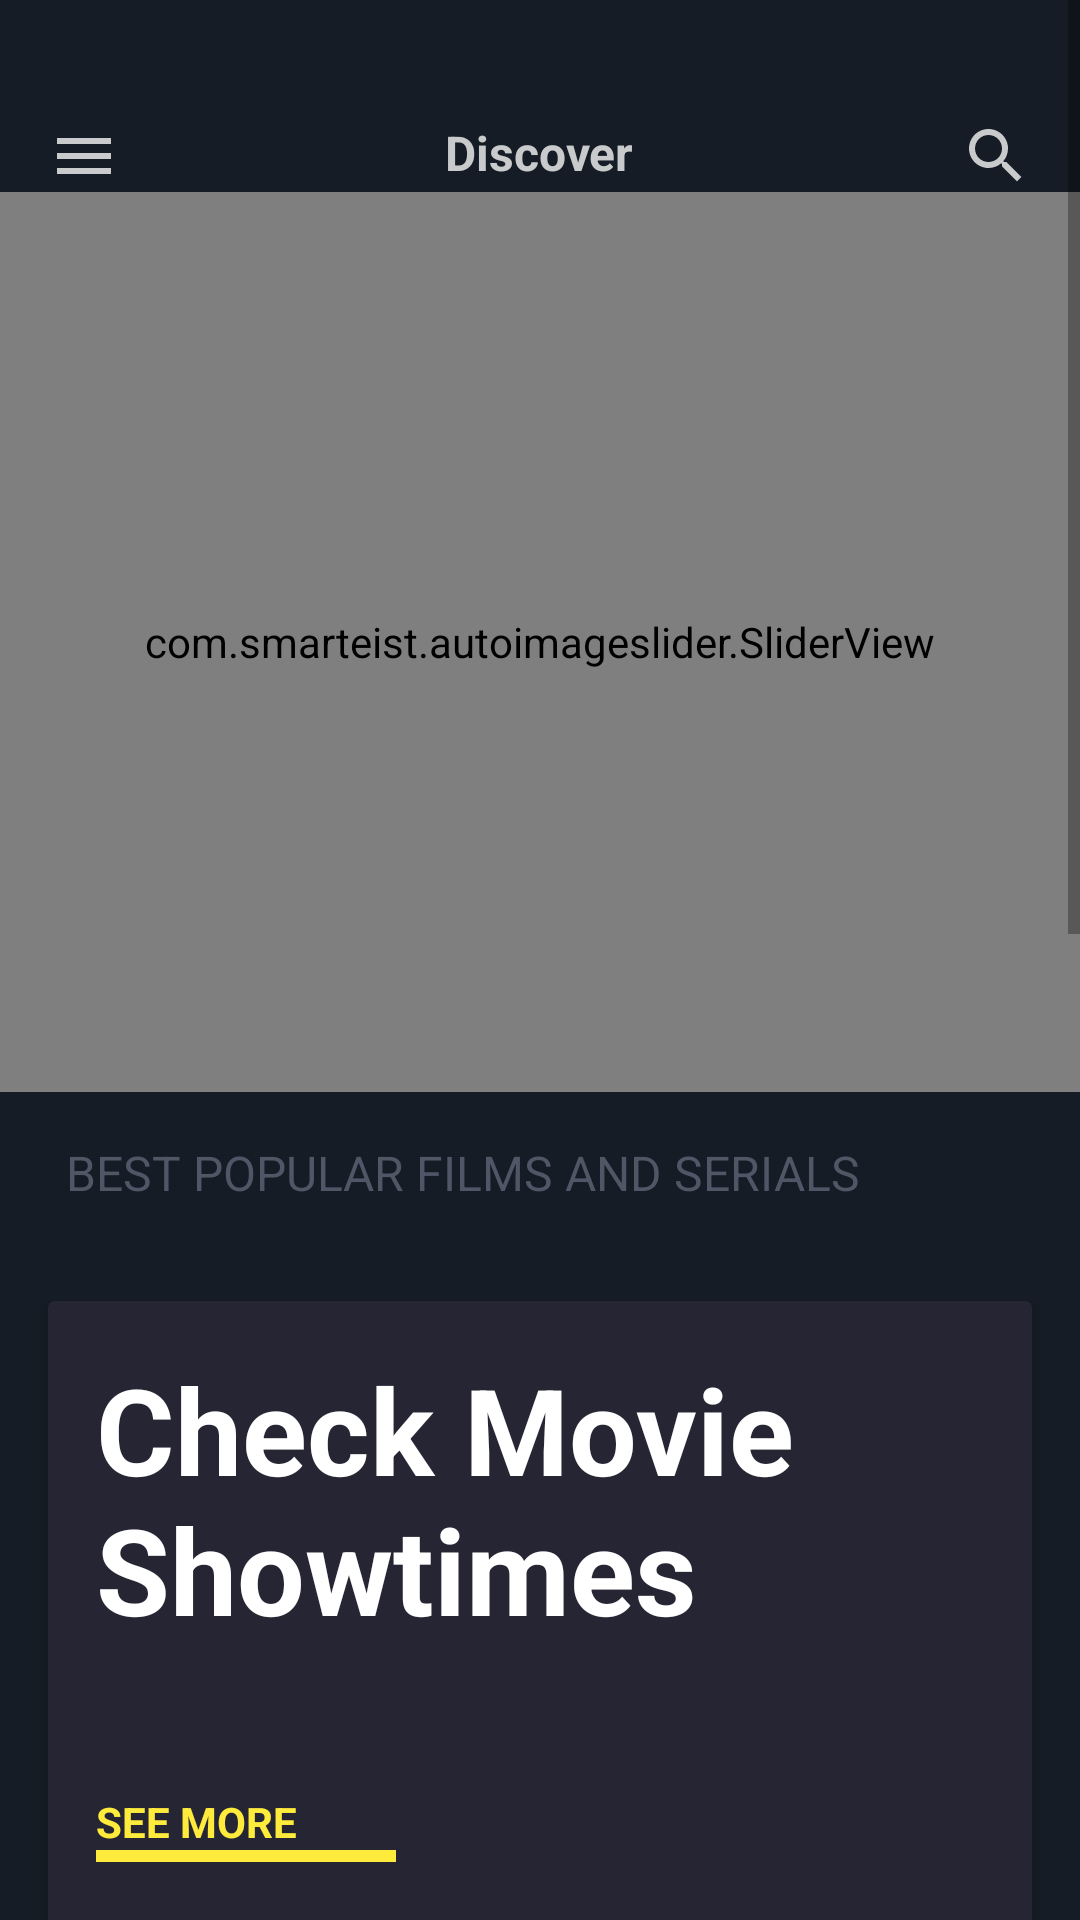

Icon click points for this 1080px x 1920px phone screenshot, format (x,y):
menu: (84,156)
search: (995,155)
